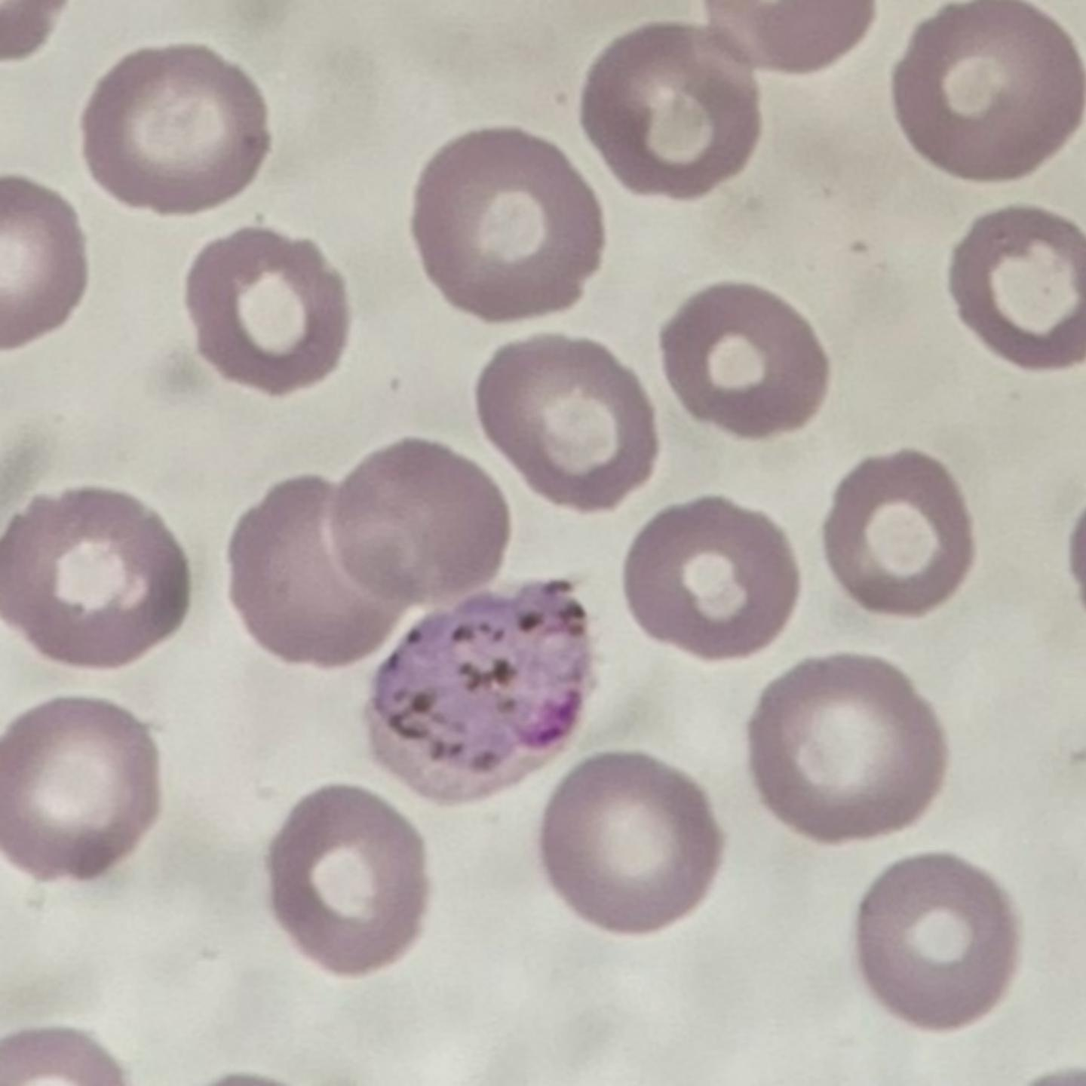Infected: (363, 579, 597, 803)
Uninfected: (407, 122, 600, 316), (563, 26, 779, 192), (754, 644, 933, 839), (882, 6, 1081, 180), (3, 489, 188, 672), (272, 780, 441, 980), (478, 328, 649, 524), (221, 476, 390, 673), (538, 755, 722, 933), (322, 436, 513, 595), (628, 494, 806, 660), (78, 49, 265, 206), (815, 439, 975, 620), (0, 700, 164, 876), (850, 848, 1004, 1032), (664, 282, 830, 437), (181, 237, 347, 380), (950, 207, 1086, 358)
